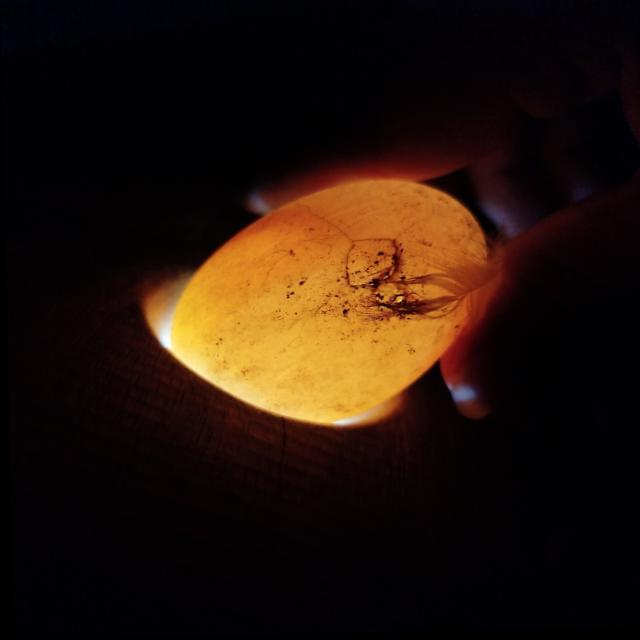Rachadura: (345, 241, 395, 287)
